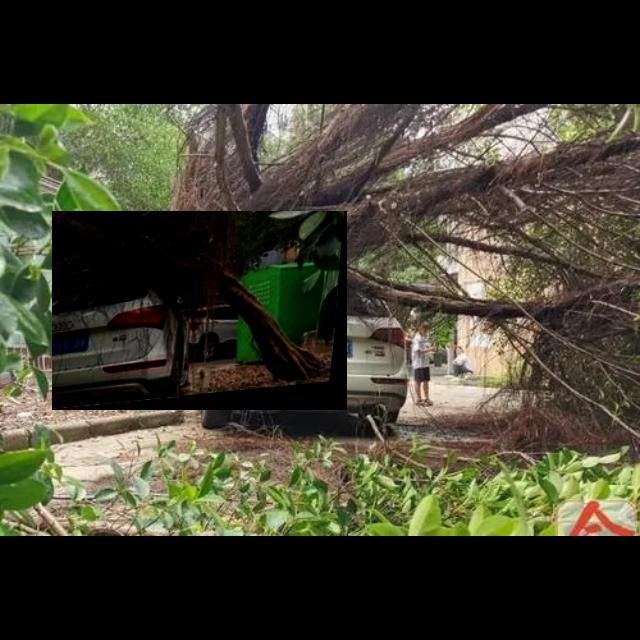Fallen Tree: (52, 211, 348, 411)
